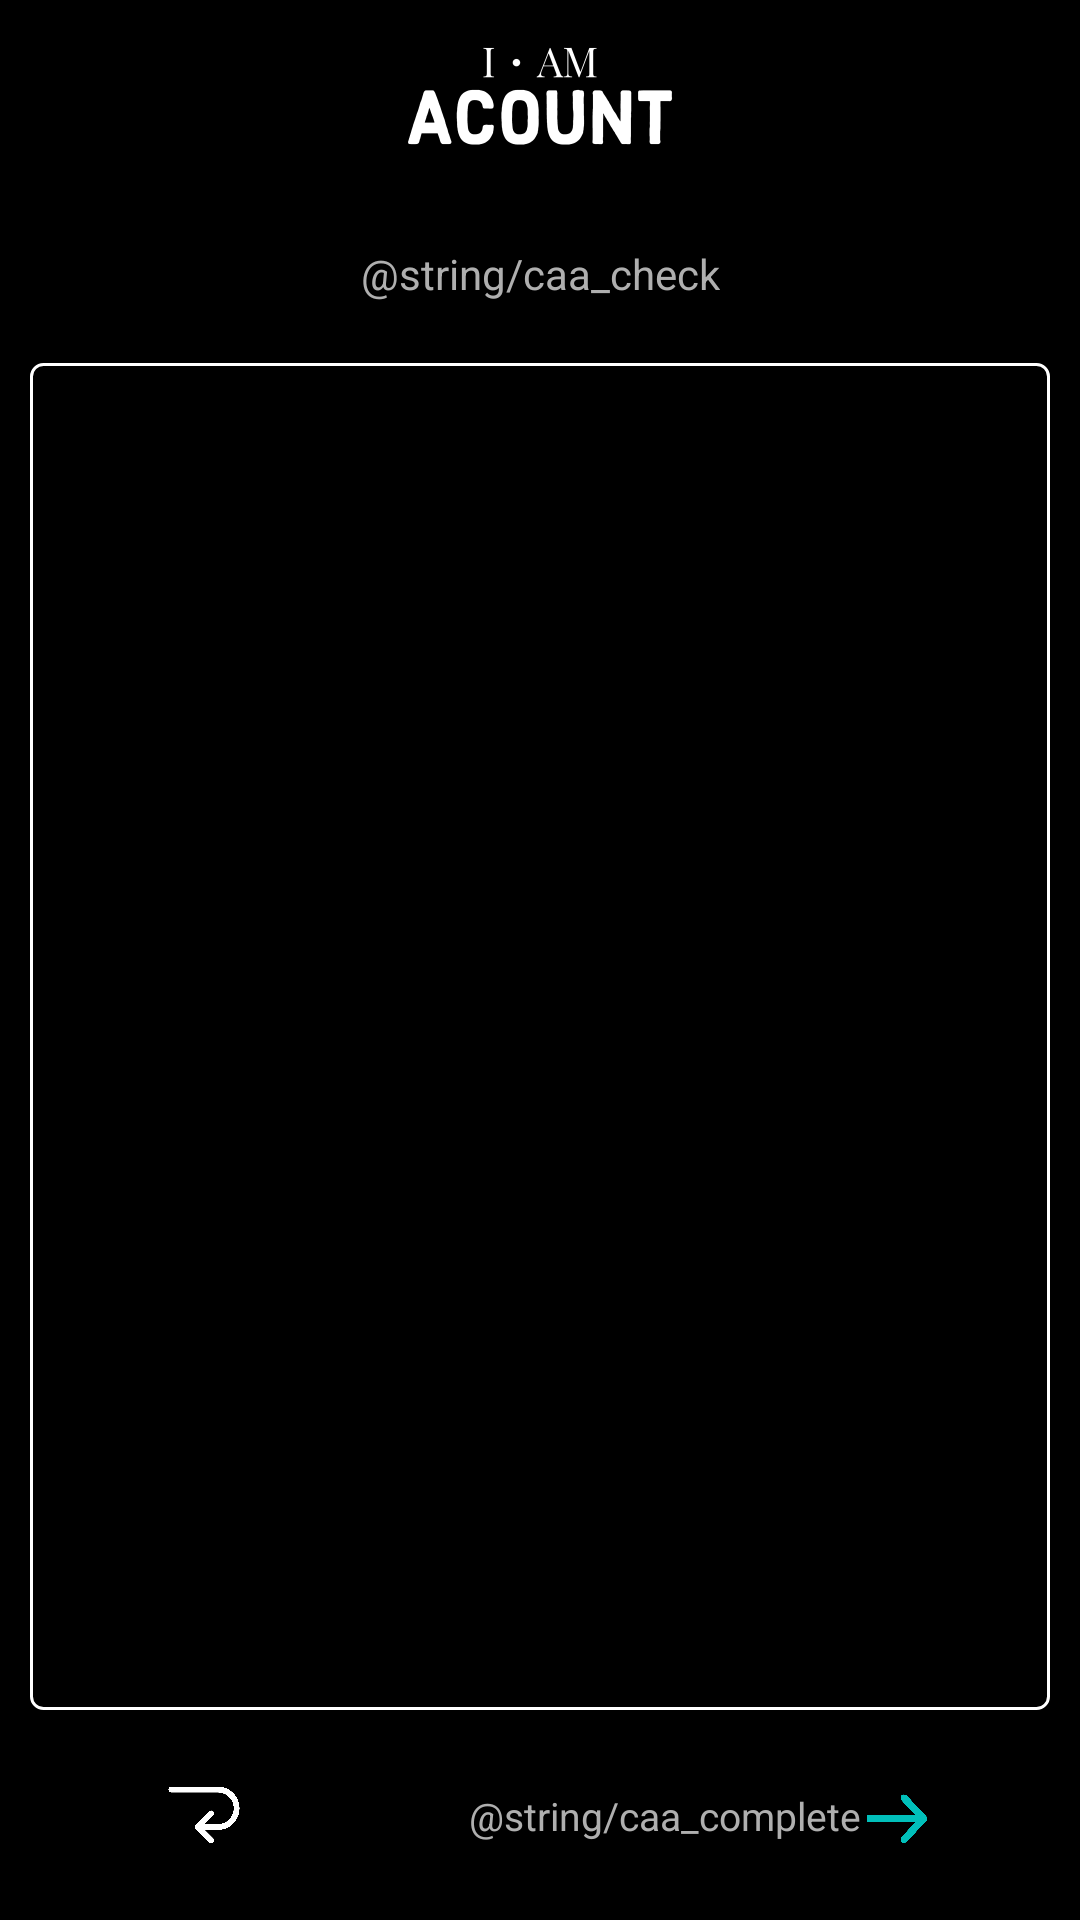

Screen size 1080×1920. Icon name, then its center in pixels as [x,y]:
caa cancel: [204,1815]
